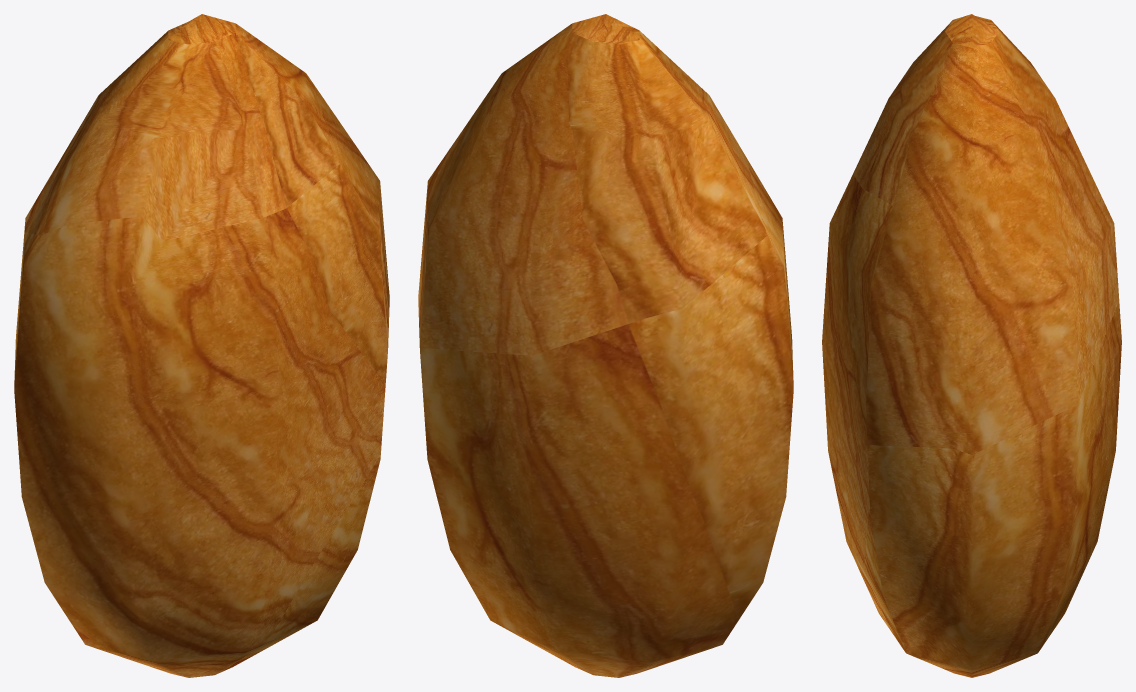
Rendered from almond.fbx.
3 views of the same model, side by side, from view 1: azimuth 30°, elevation 25°; view 2: azimuth 150°, elevation 25°; view 3: azimuth 270°, elevation 25° (orthographic).
Parts seen in each view (by area): view 1: almond1; view 2: almond1; view 3: almond1.
Boxes of the visible parts, bbox=[...] form: almond1: bbox=[14, 14, 389, 677]; almond1: bbox=[418, 14, 793, 677]; almond1: bbox=[822, 14, 1121, 677].
Size of the model in its own units: 7.97 by 13.22 by 5.54.
